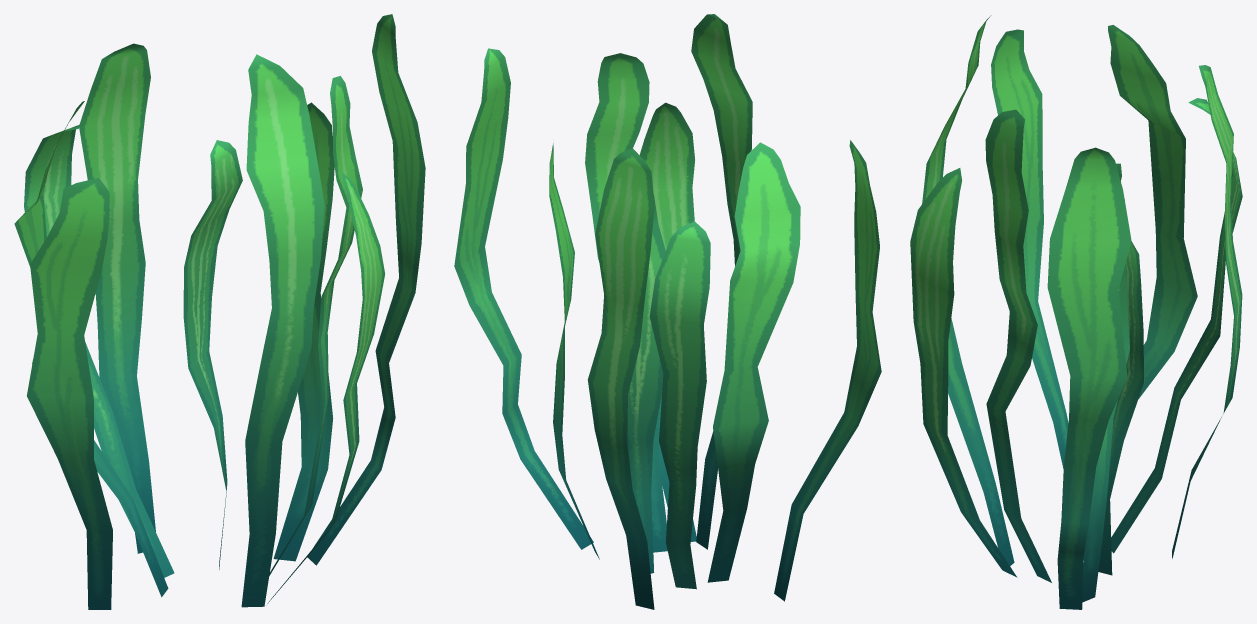
Rendered from kusa.fbx.
3 views of the same model, side by side, from view 1: azimuth 30°, elevation 25°; view 2: azimuth 150°, elevation 25°; view 3: azimuth 270°, elevation 25° (orthographic). The views are drawn at different scales.
Parts seen in each view (by area): view 1: kusa; view 2: kusa; view 3: kusa.
Boxes of the visible parts, left/top/right/bottom form: kusa: left=14, top=14, right=425, bottom=609; kusa: left=454, top=14, right=881, bottom=609; kusa: left=910, top=15, right=1242, bottom=609.
Bounding box in the file's own units: 20.69 × 26.91 × 14.73.
